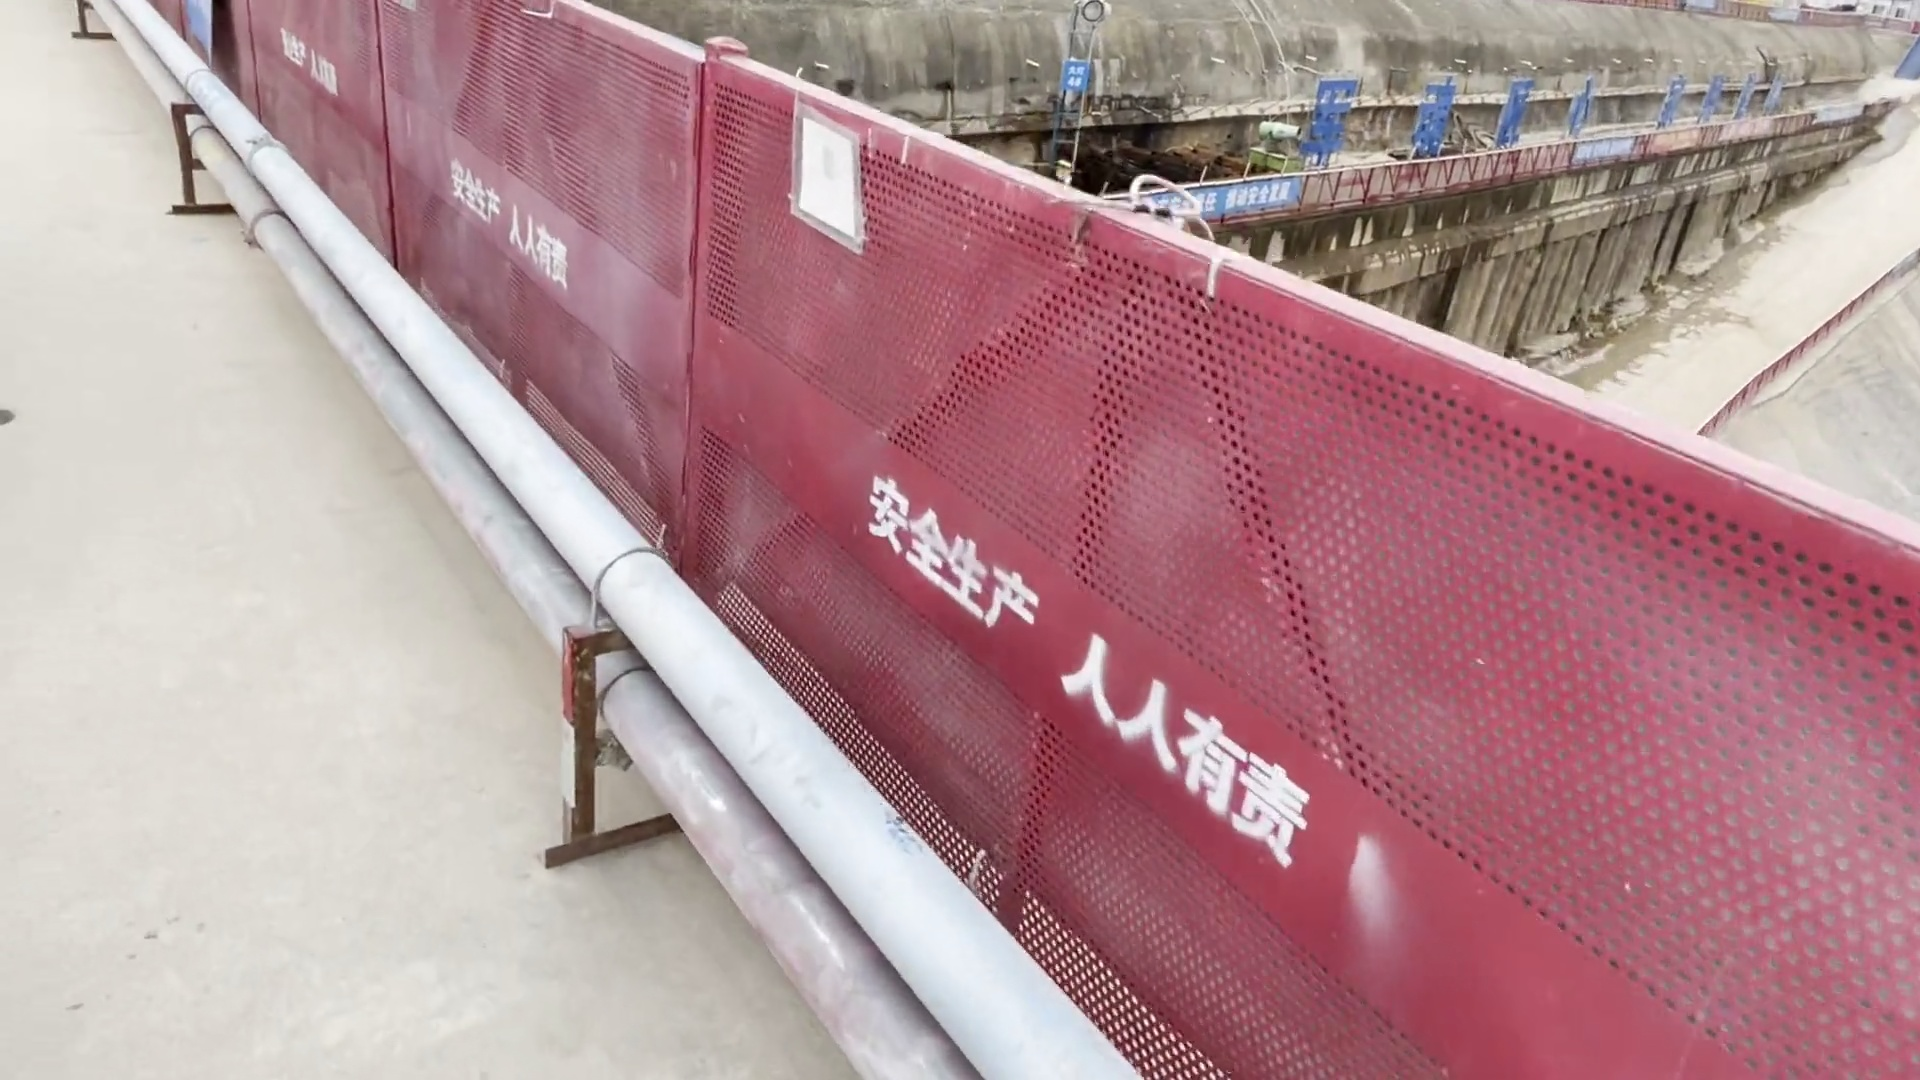fence: (669, 54, 1920, 1063)
